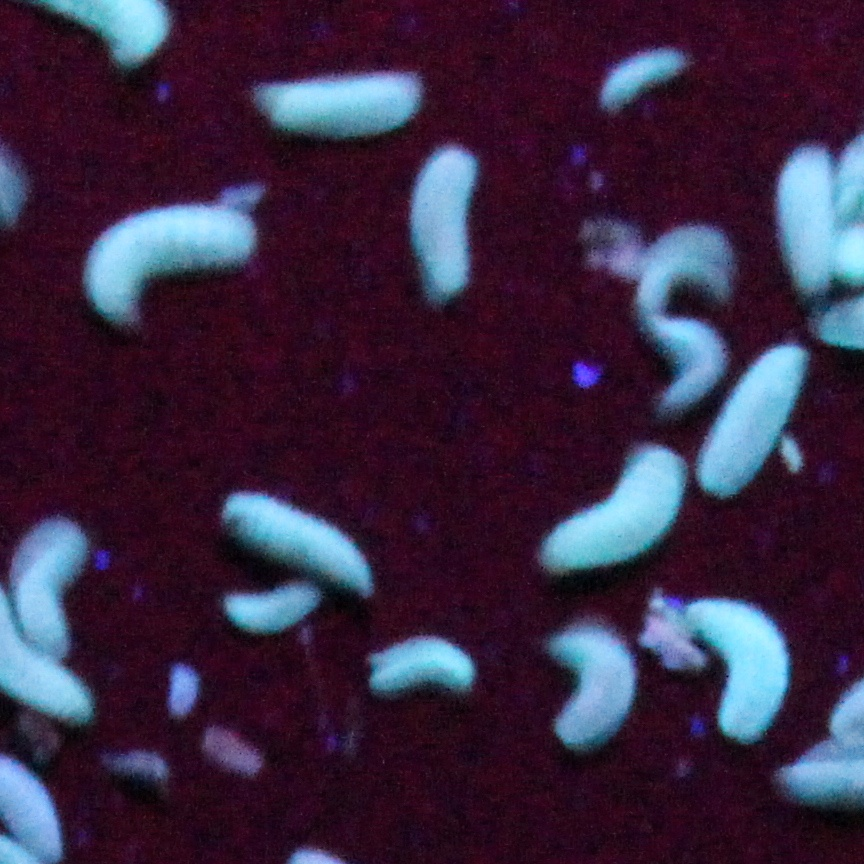larve: (77, 216, 254, 322), (540, 445, 681, 574), (696, 345, 806, 497), (231, 489, 379, 597), (681, 604, 790, 747), (6, 518, 94, 654), (554, 620, 635, 749), (254, 81, 429, 135), (637, 220, 731, 316), (412, 143, 471, 295), (781, 147, 837, 293), (646, 314, 723, 416), (375, 631, 475, 697), (600, 51, 683, 114), (223, 591, 325, 631)
